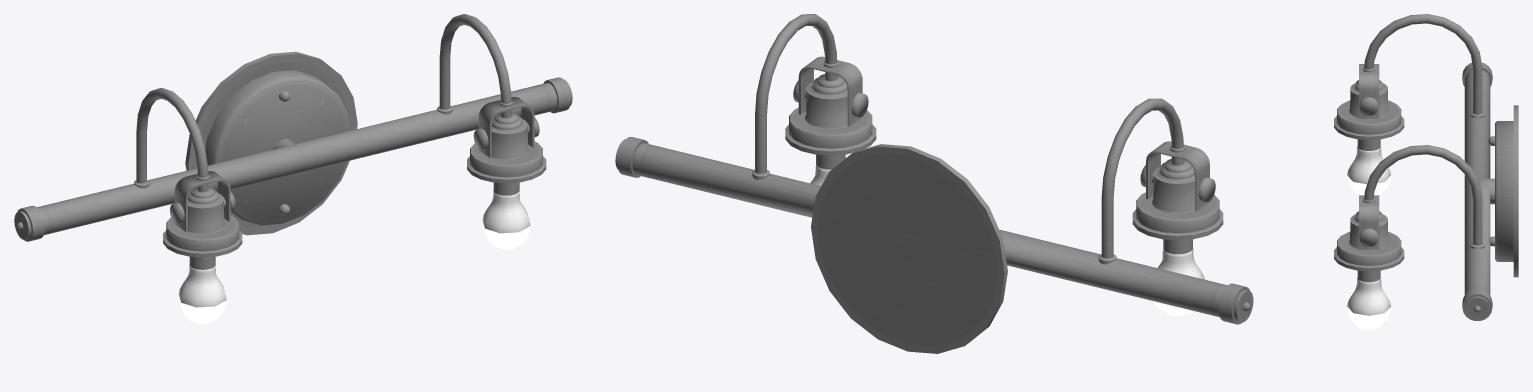
Rendered from light.glb.
3 renders of one model, left to right at view 1: azimuth 30°, elevation 25°; view 2: azimuth 150°, elevation 25°; view 3: azimuth 270°, elevation 25°, orthographic. The views are drawn at different scales.
Visible parts, largest first — view 1: Lamp_low; view 2: Lamp_low; view 3: Lamp_low.
Part boxes in pixels (left/top/right/bottom): Lamp_low: left=14, top=14, right=572, bottom=323; Lamp_low: left=615, top=14, right=1253, bottom=353; Lamp_low: left=1334, top=14, right=1518, bottom=330.
Size of the model in its own units: 2 by 0.7916 by 0.7815.
Materials: 1 (1 with a texture image).
